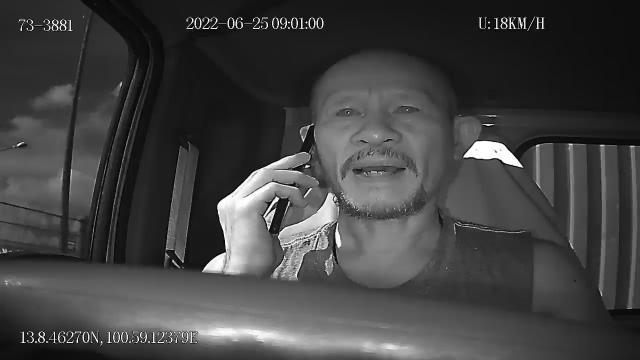PhoneUse: (269, 124, 315, 236)
SafeDriving: (384, 92, 430, 122), (328, 97, 368, 127)
